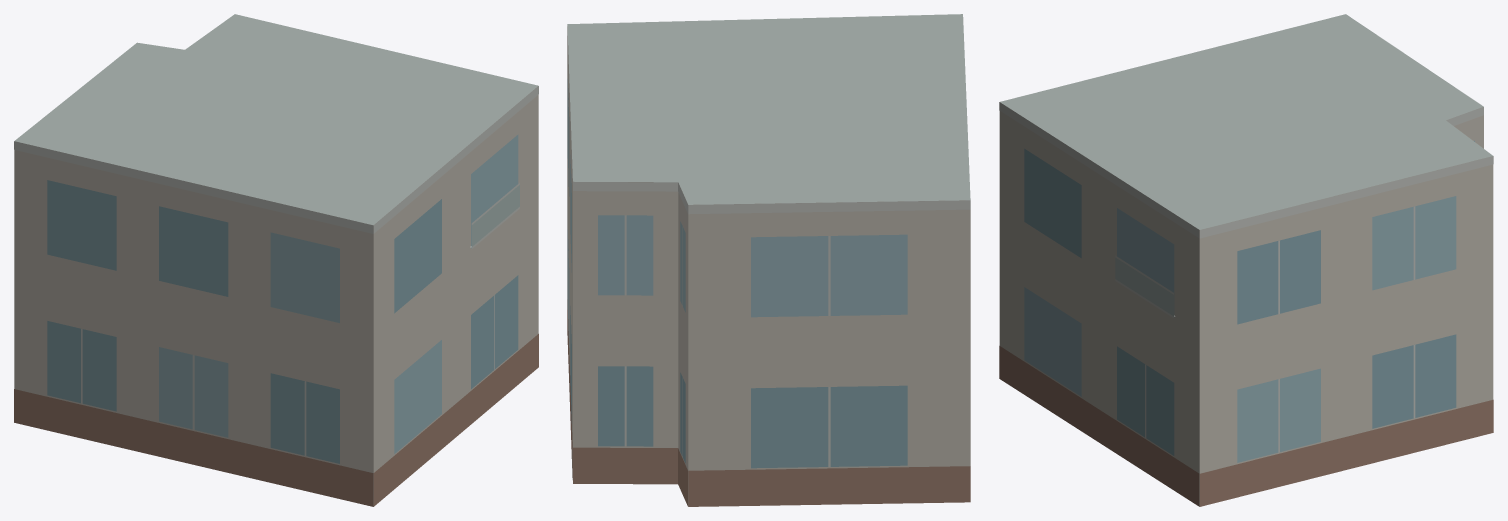
File: survey-upis-32696531.glb
3 renders of one model, left to right at view 1: azimuth 30°, elevation 25°; view 2: azimuth 150°, elevation 25°; view 3: azimuth 270°, elevation 25°, orthographic. The views are drawn at different scales.
Parts seen in each view (by area): view 1: survey-upis-32696531.tmp; view 2: survey-upis-32696531.tmp; view 3: survey-upis-32696531.tmp.
Part boxes in pixels (x1,y1,x2,y2): survey-upis-32696531.tmp: [14, 14, 538, 506]; survey-upis-32696531.tmp: [567, 14, 970, 506]; survey-upis-32696531.tmp: [999, 14, 1493, 506].
Bounding box in the file's own units: 13.23 × 7.9 × 12.78.
